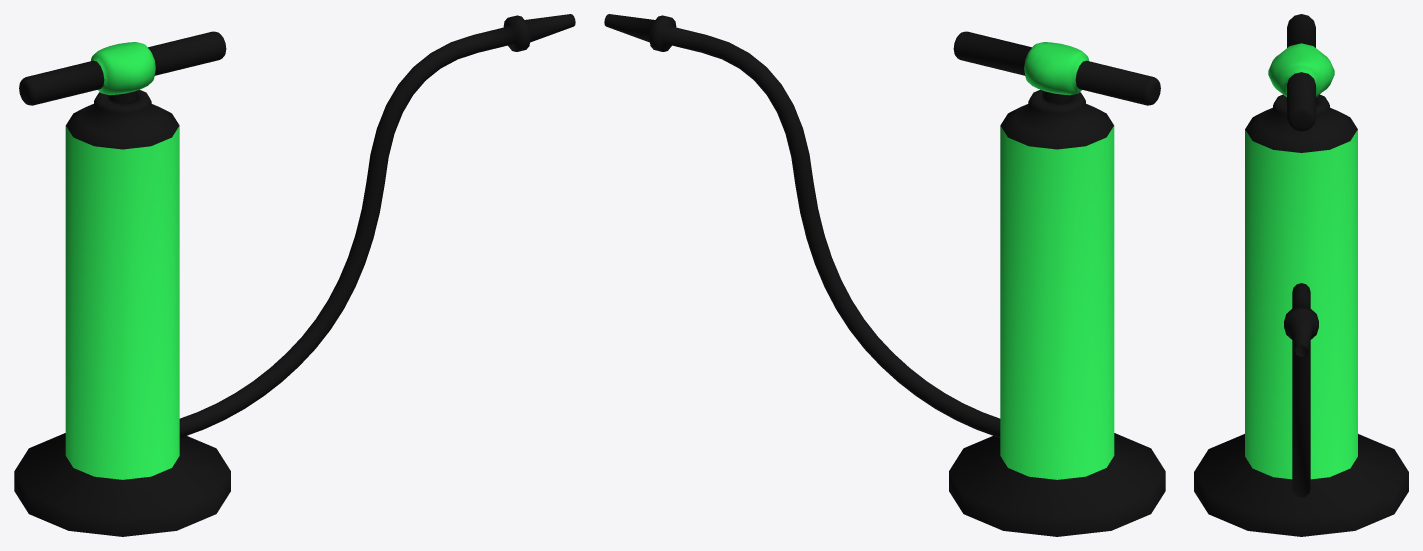
Rendered from Pompa_V3.fbx.
3 views of the same model, side by side, from view 1: azimuth 30°, elevation 25°; view 2: azimuth 150°, elevation 25°; view 3: azimuth 270°, elevation 25° (orthographic).
Parts seen in each view (by area): view 1: Cylinder.010, Cylinder.011; view 2: Cylinder.010, Cylinder.011; view 3: Cylinder.010, Cylinder.011.
Boxes of the visible parts, x1,y1,x2,y2 form: Cylinder.010: (14,14,575,536); Cylinder.011: (19,31,226,105); Cylinder.010: (604,14,1165,536); Cylinder.011: (953,31,1160,105); Cylinder.010: (1194,94,1408,536); Cylinder.011: (1268,14,1334,131).
Bounding box in the file's own units: 147 × 114 × 50.44.
